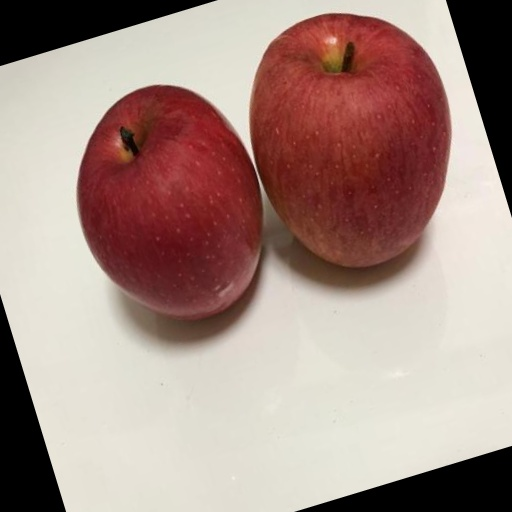fruit: (103, 58, 491, 419), (7, 129, 188, 397)
